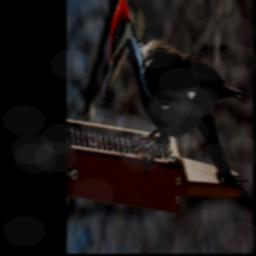Woodpecker: (100, 0, 249, 199)
